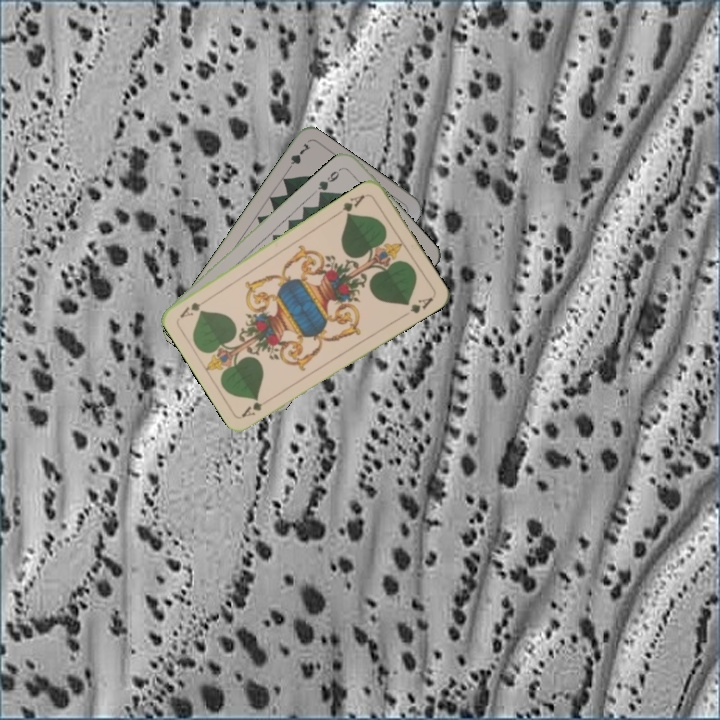G7: (282, 139, 313, 175)
G9: (314, 163, 346, 197)
GA: (333, 190, 370, 219), (238, 398, 265, 420)
